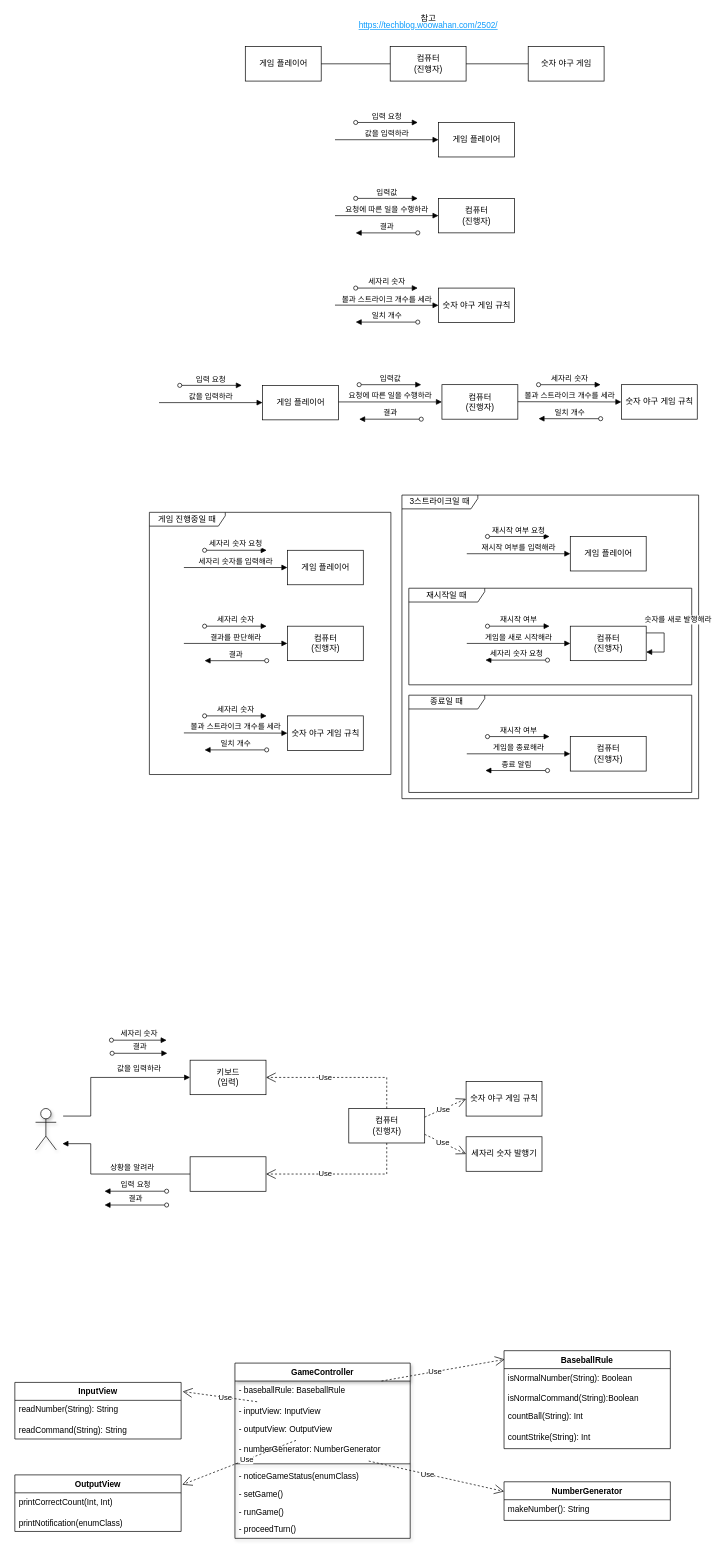
The diagram is 723 pixels wide and 1555 high, and some of its shapes have lost their labels. The shapes that lost their labels are listed below. From the top down, each one's centre as x and y in pixels, then its label:
At point 46,1130: "Actor".
At point 227,1173: "화면 (출력)".
